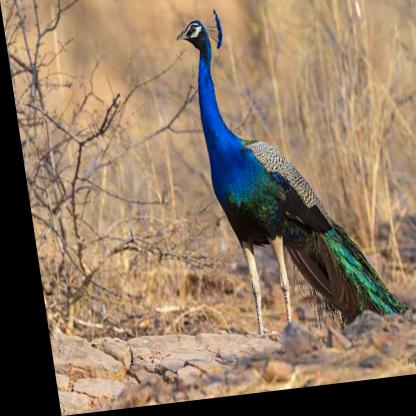Burung: (171, 0, 396, 340)
